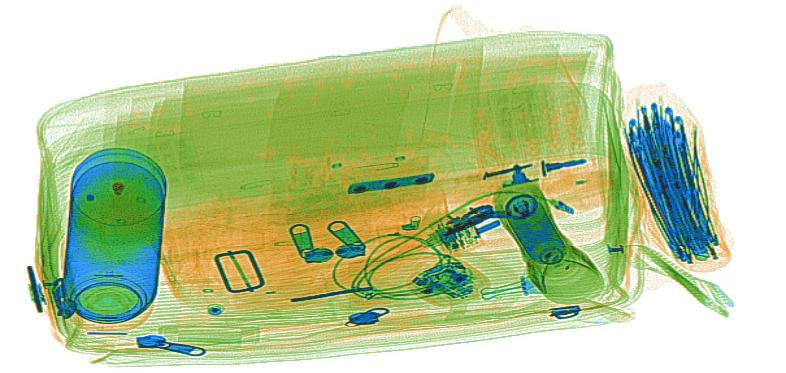battery: (504, 200, 566, 269)
